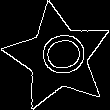O_W: (29, 32, 87, 83)
